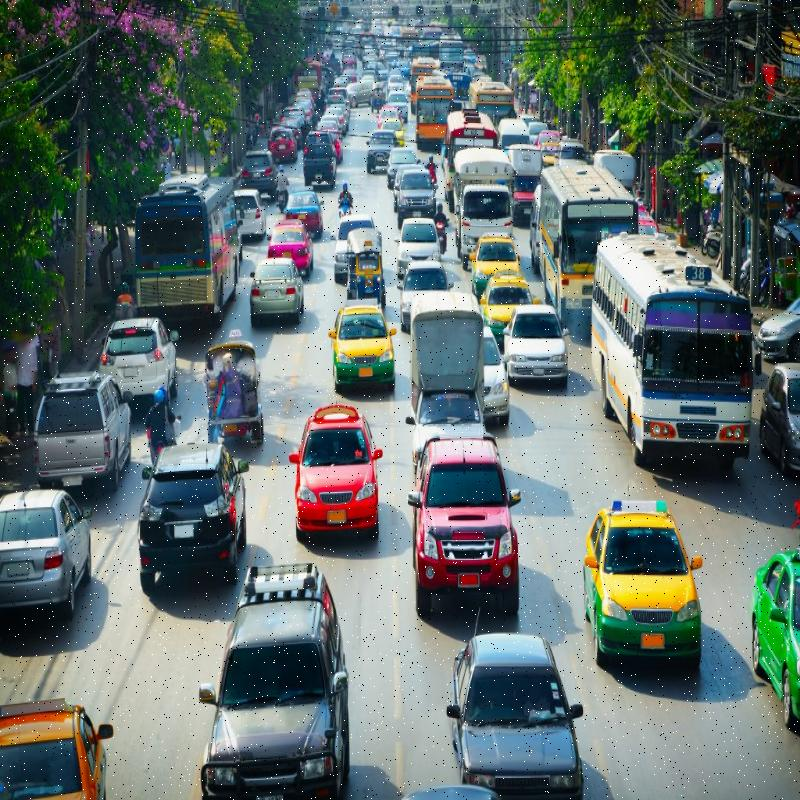bus: (583, 212, 764, 476), (532, 148, 631, 358), (123, 165, 246, 324)
car: (198, 549, 357, 800), (444, 614, 586, 800), (582, 488, 708, 687), (406, 424, 514, 610), (144, 427, 242, 601), (322, 286, 387, 400)
